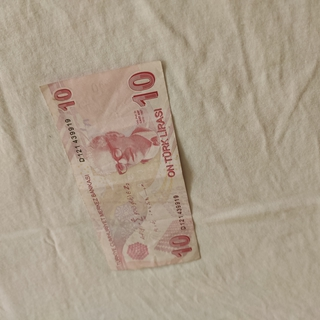10TLBack: (38, 60, 202, 272)
